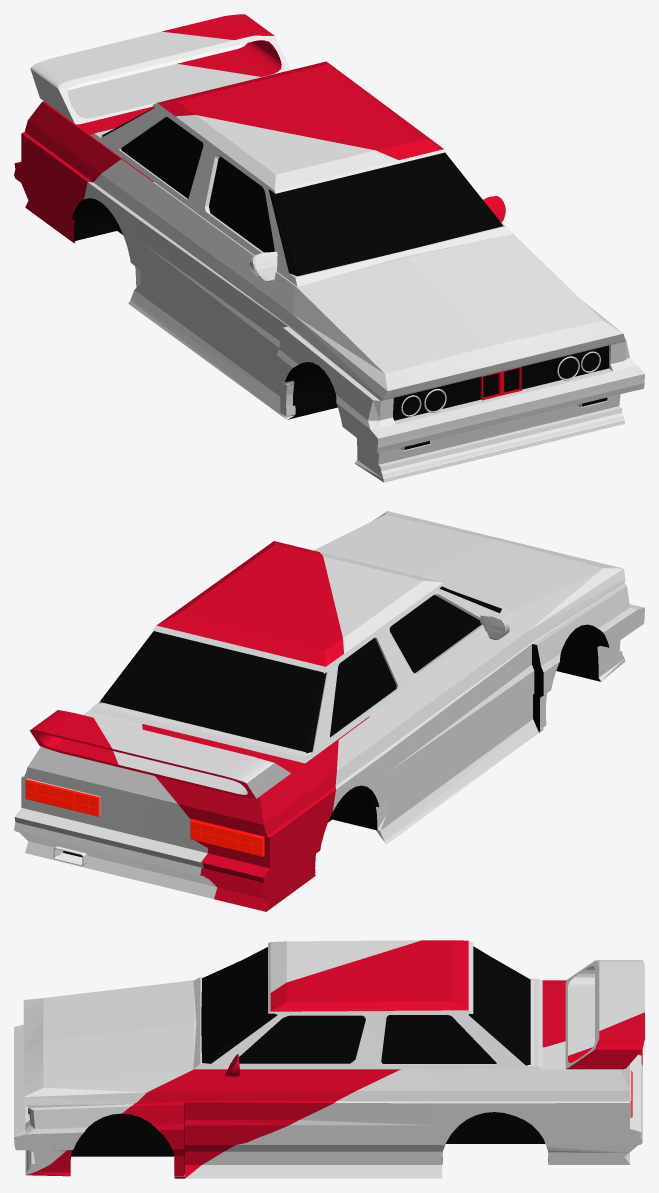
File: bmw_e30.dae
3 renders of one model, top to bottom at view 1: azimuth 30°, elevation 25°; view 2: azimuth 150°, elevation 25°; view 3: azimuth 270°, elevation 25°, orthographic. The views are drawn at different scales.
Parts seen in each view (by area): view 1: body; view 2: body; view 3: body.
Part boxes in pixels (box(x1,y1,x2,y2)): body: box(14, 14, 644, 482); body: box(14, 511, 644, 911); body: box(14, 940, 644, 1178).
Size of the model in its own units: 2.73 by 6.64 by 1.8.
